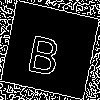B: (25, 25, 65, 77)
